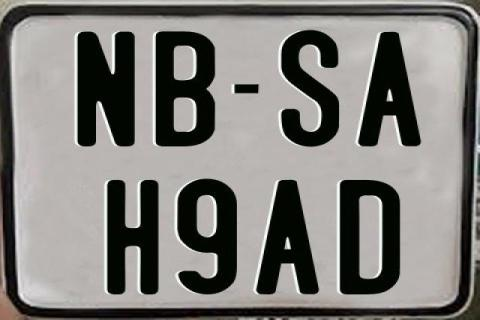0: (174, 177, 234, 293)
A: (256, 180, 324, 295), (355, 32, 419, 146)
B: (153, 29, 217, 145)
D: (338, 179, 400, 297)
H: (104, 178, 160, 296)
N: (74, 29, 134, 149)
S: (281, 28, 345, 150)
